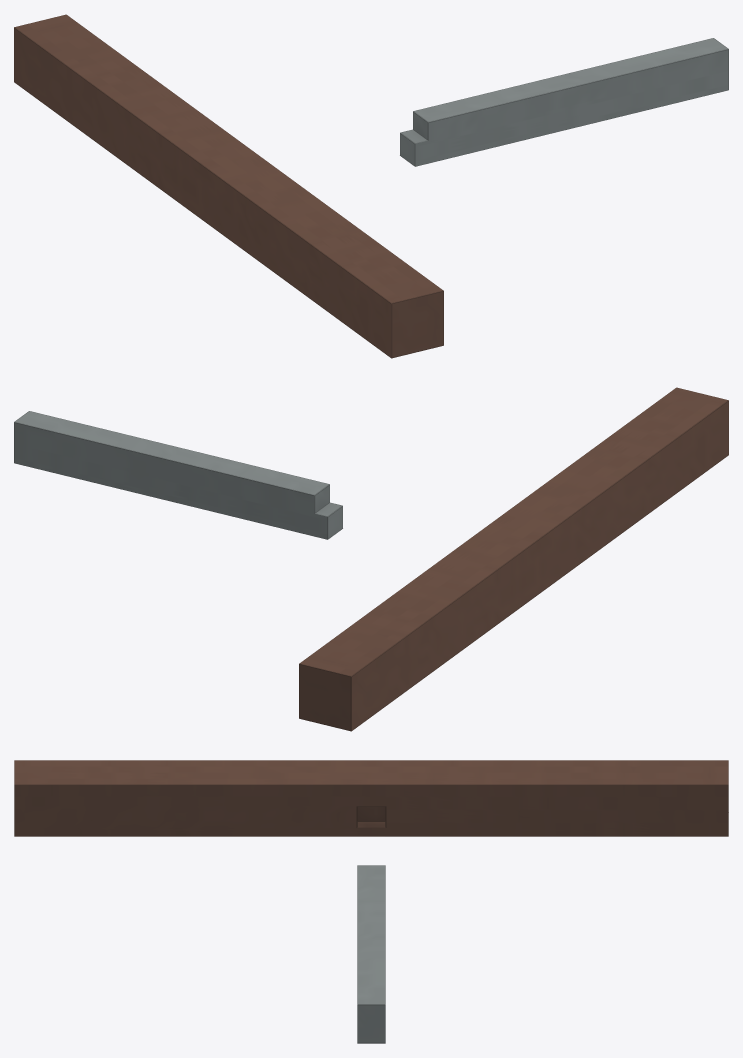
Rendered from joist-into-sill.glb.
3 views of the same model, one above another, from view 1: azimuth 30°, elevation 25°; view 2: azimuth 150°, elevation 25°; view 3: azimuth 270°, elevation 25° (orthographic). The views are drawn at different scales.
Parts seen in each view (by area): view 1: part-a, part-b; view 2: part-a, part-b; view 3: part-a, part-b.
Part boxes in pixels (left/top/right/bottom): part-a: left=14, top=14, right=443, bottom=358; part-b: left=400, top=38, right=728, bottom=166; part-a: left=299, top=387, right=728, bottom=731; part-b: left=14, top=411, right=342, bottom=539; part-a: left=14, top=760, right=728, bottom=836; part-b: left=357, top=865, right=385, bottom=1043.
Size of the model in its own units: 1.19 by 0.1208 by 1.5.
